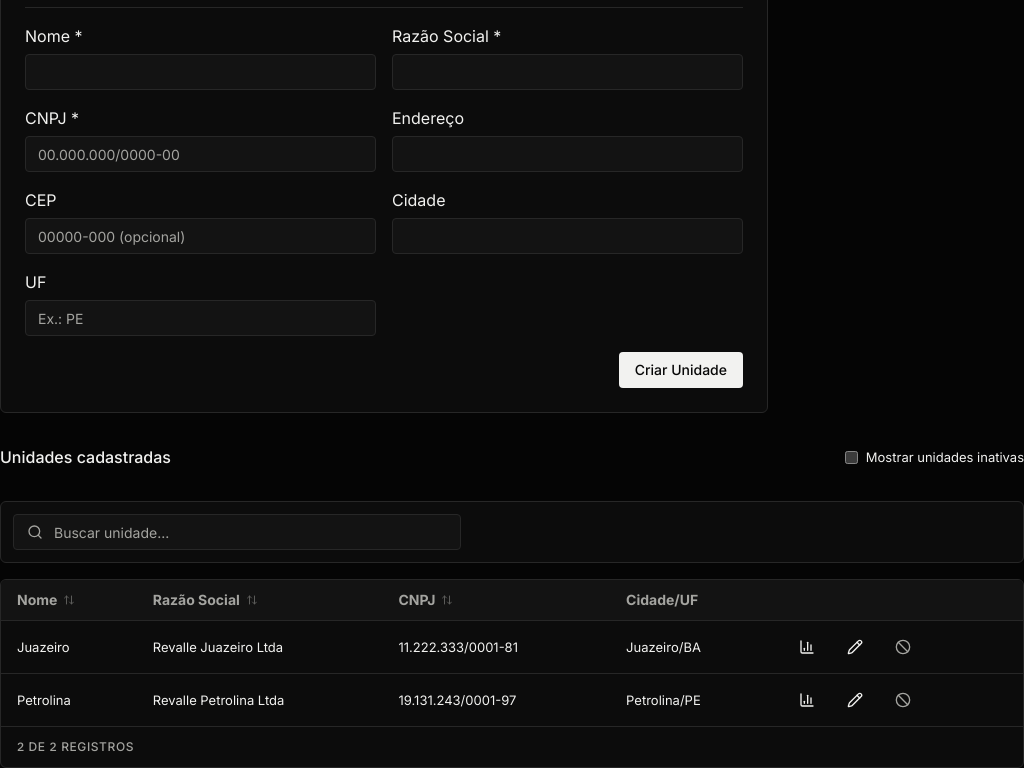
Test case: UnidadesPage — inativação › inativa com sucesso quando o backend aceita
The image size is (1024, 768).
(page scrolled)
Step 1. Click the button named "Inativar unidade Juazeiro" → (902, 647), box 882,631 -> 922,663
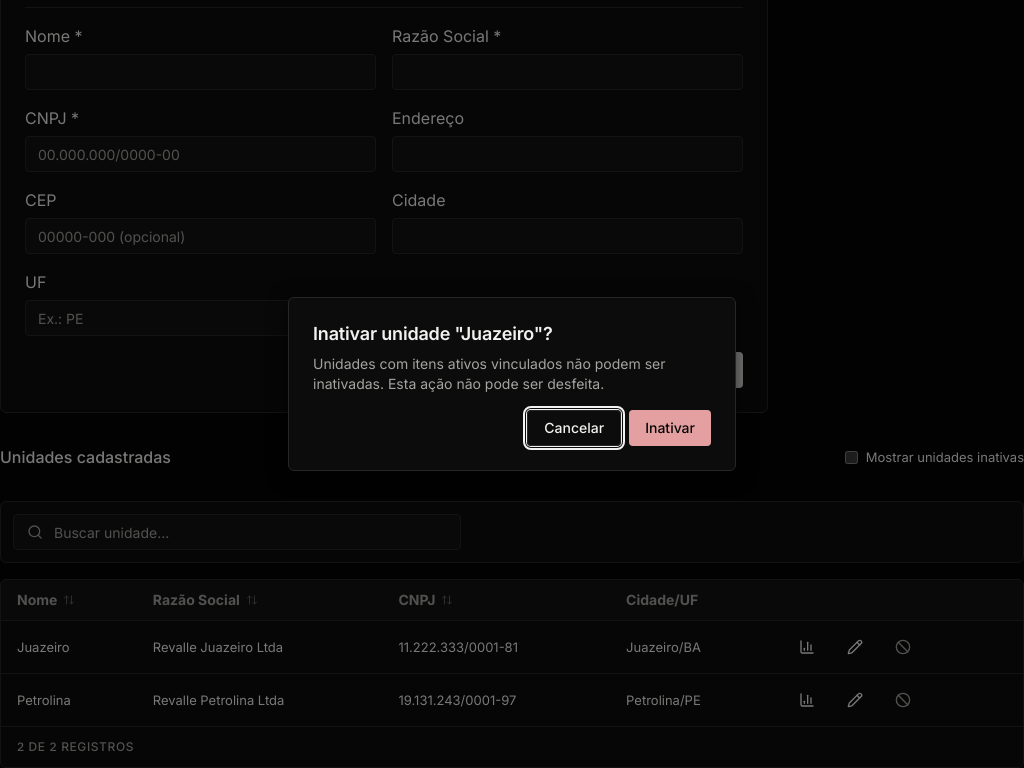
Step 2. Click the button "Inativar" → (670, 428), box 629,410 -> 711,446
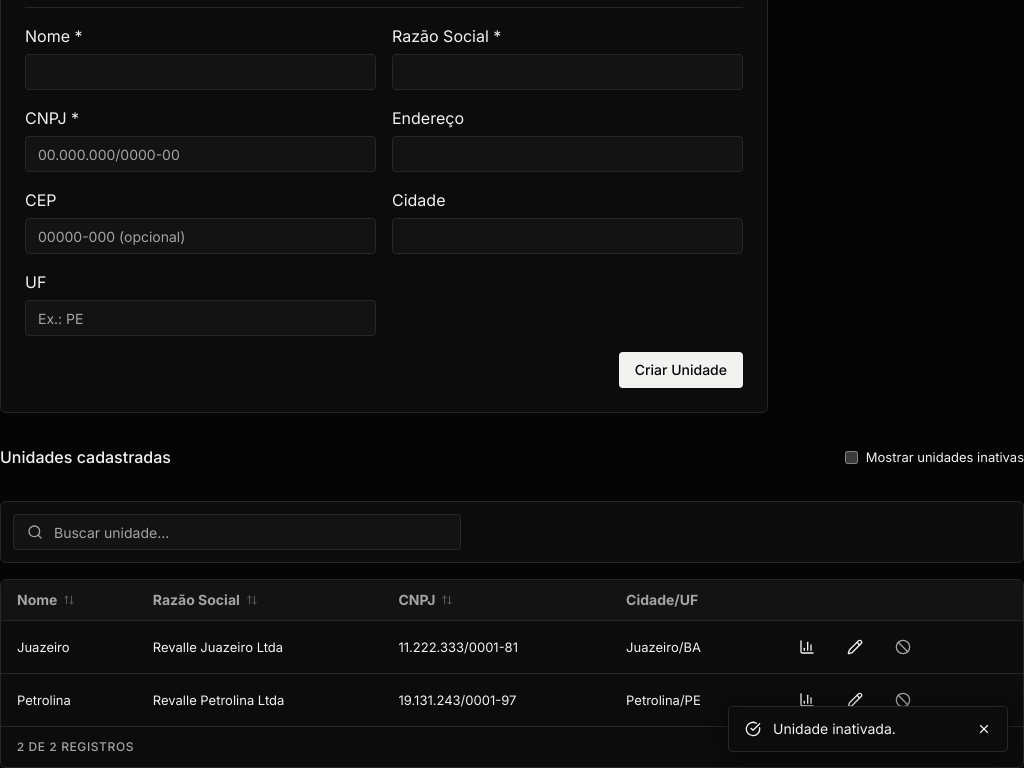
Now the text "Unidade inativada." is shown, box 773,720 -> 896,737
